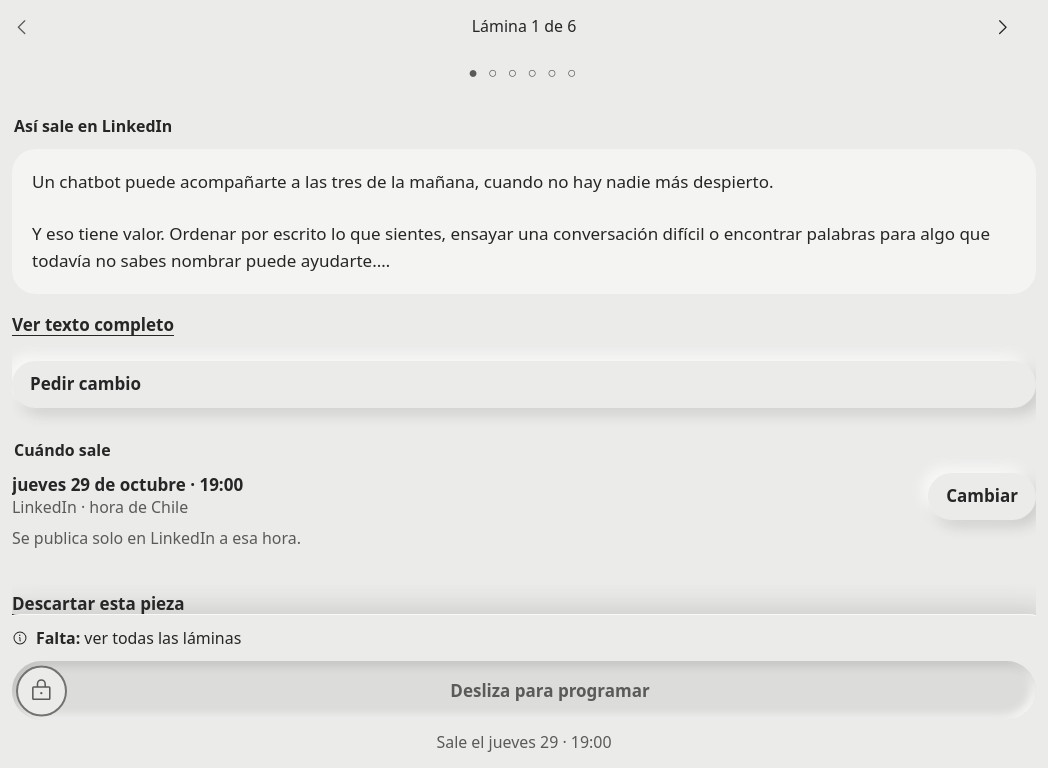
PantallaPuerta2Carrusel › folds the post text and offers both kinds of change and the discard
(page scrolled)
What coordinates should you click on to do the following:
click the heading "Pedir cambio"
I would click on:
 (85, 383)
Its box is [12,361,1036,408].
(page scrolled)
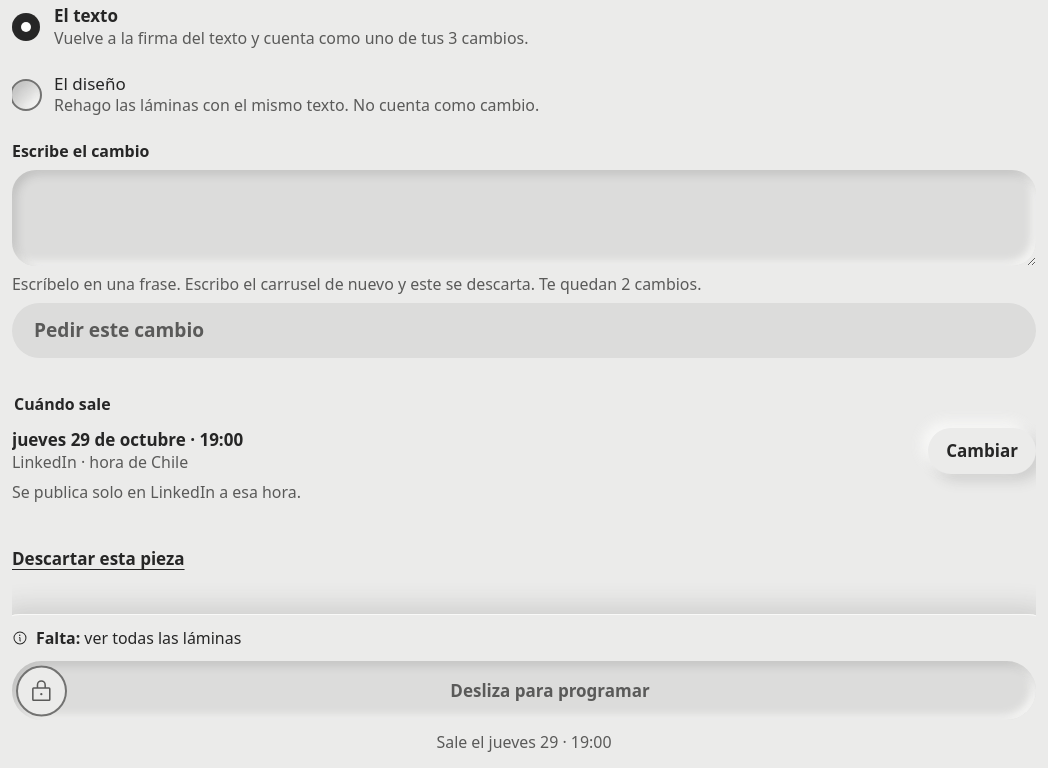
expect the button "Descartar esta pieza" is shown: met, box [12,536,184,582]
expect the radio button labelled "El texto" is shown: met, box [12,4,528,49]
expect the radio button labelled "El diseño" is shown: met, box [12,72,539,116]
